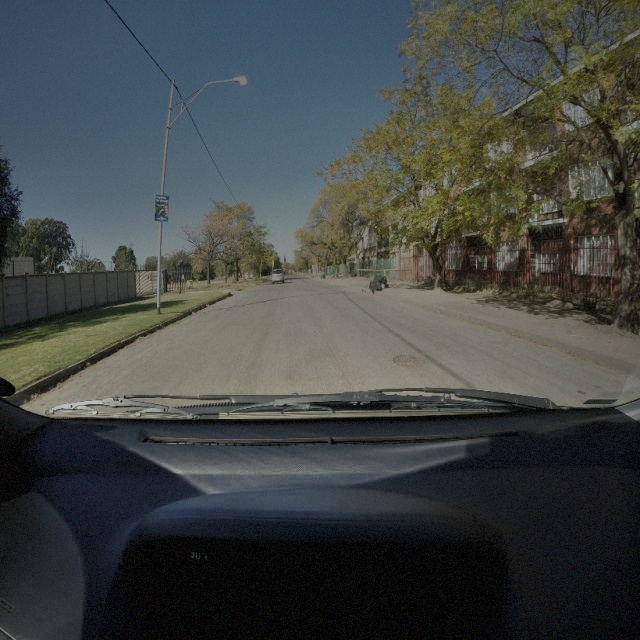pothole: (391, 350, 423, 367)
